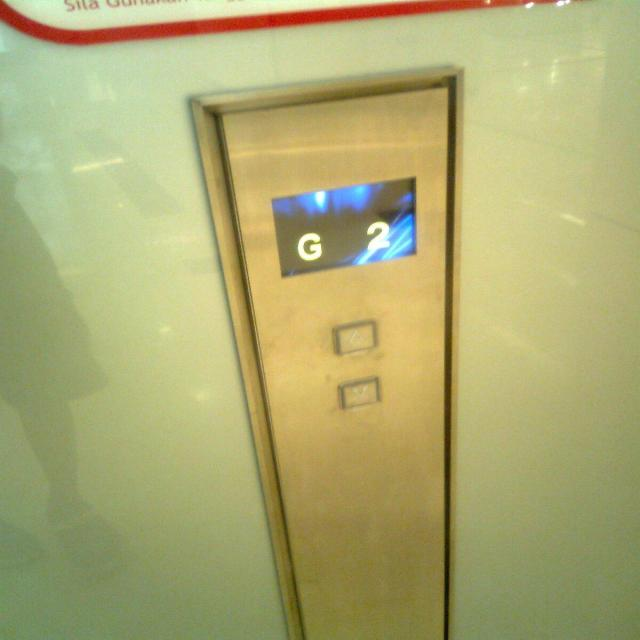down: (334, 373, 384, 413)
led: (266, 173, 421, 281)
up: (327, 317, 381, 357)
